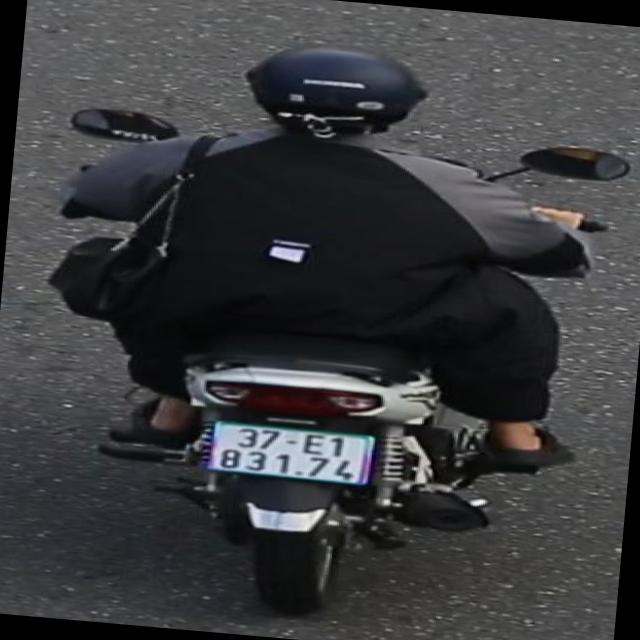LP: (204, 416, 386, 494)
helmet: (240, 34, 437, 156)
